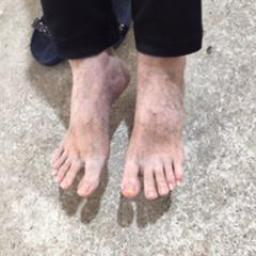Dorsal View -Both Feet-: (44, 42, 202, 210)
